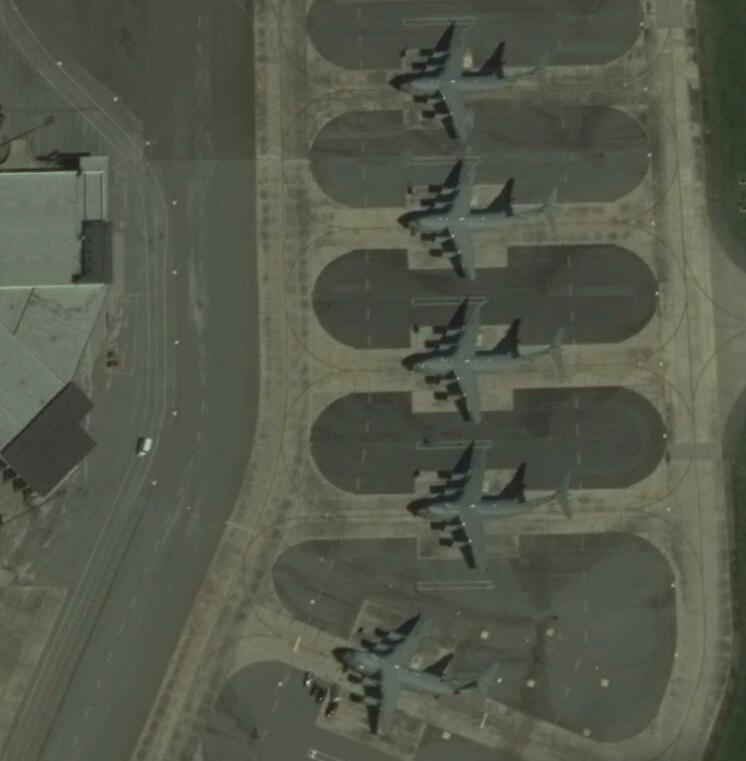A3: (407, 446, 574, 571), (339, 613, 501, 737), (401, 157, 561, 279), (404, 305, 568, 423), (398, 24, 553, 138)
